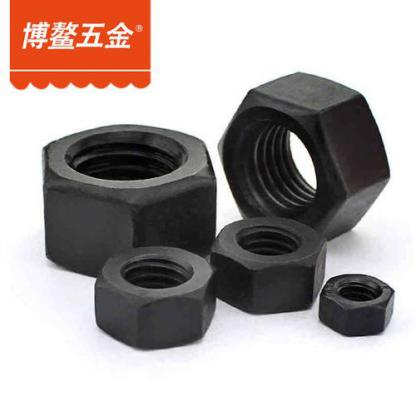FOD: (218, 72, 390, 240), (37, 122, 218, 277), (92, 242, 218, 352), (215, 212, 327, 315), (320, 272, 398, 340)
